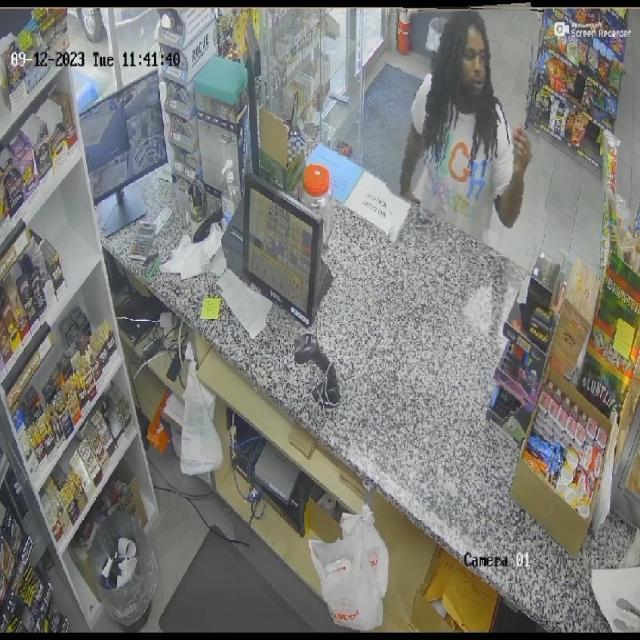normal: (386, 5, 544, 256)
